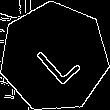L_NW: (26, 28, 82, 86)
